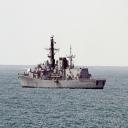Fragata: (18, 34, 108, 91)
